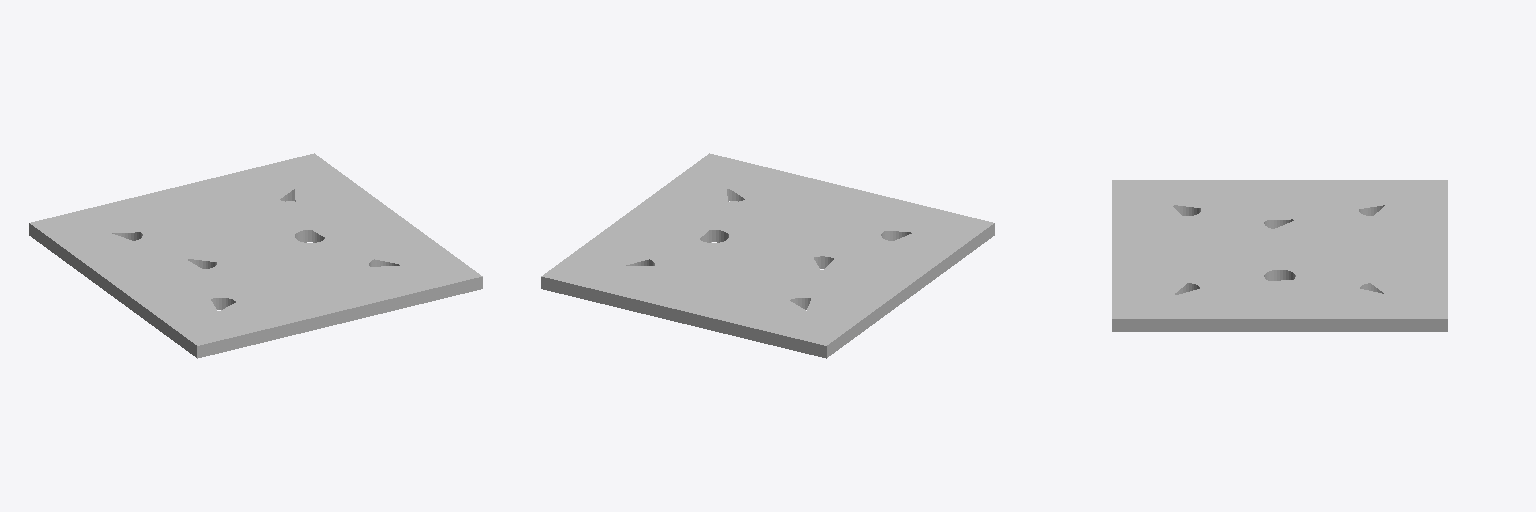
The model's file is baseWithHole.obj.
The picture shows the model from 3 angles: view 1: azimuth 30°, elevation 25°; view 2: azimuth 150°, elevation 25°; view 3: azimuth 270°, elevation 25°; orthographic projection.
Visible parts, largest first — view 1: 立方体; view 2: 立方体; view 3: 立方体.
Part boxes in pixels (x1,y1,x2,y2): 立方体: (29, 153, 482, 358); 立方体: (541, 153, 994, 358); 立方体: (1112, 180, 1447, 331).
Size of the model in its own units: 10.47 by 0.4411 by 10.7.